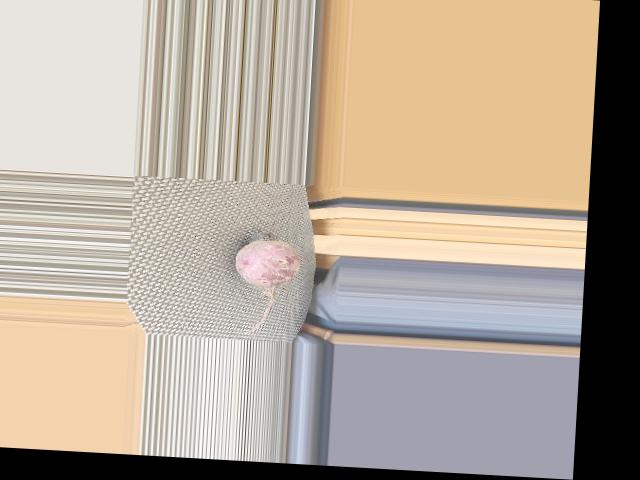beet: (232, 229, 303, 334)
